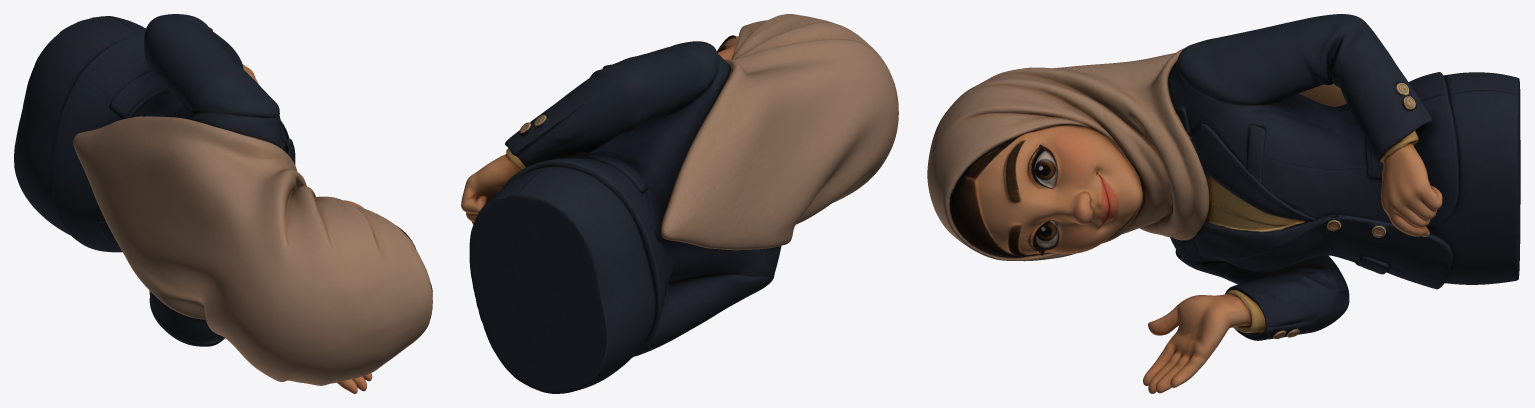
File: hijabbed businesswoman 3d model.glb
3 views of the same model, side by side, from view 1: azimuth 30°, elevation 25°; view 2: azimuth 150°, elevation 25°; view 3: azimuth 270°, elevation 25° (orthographic).
Parts seen in each view (by area): view 1: tripo_node_ac1f5bbe; view 2: tripo_node_ac1f5bbe; view 3: tripo_node_ac1f5bbe.
Part boxes in pixels (<box>): tripo_node_ac1f5bbe: <box>14,14,432,393</box>; tripo_node_ac1f5bbe: <box>461,14,898,393</box>; tripo_node_ac1f5bbe: <box>927,14,1520,393</box>.
Size of the model in its own units: 0.433 by 0.6105 by 0.9999.
1 material, 1 textured.
